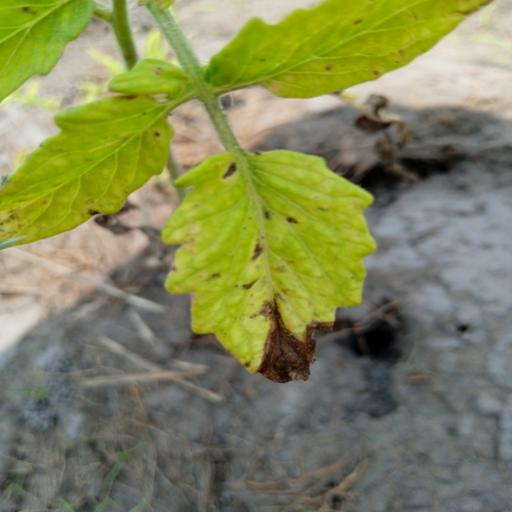Tomato_Brown_Spots: (162, 144, 382, 387), (0, 83, 191, 251), (200, 0, 504, 104)
